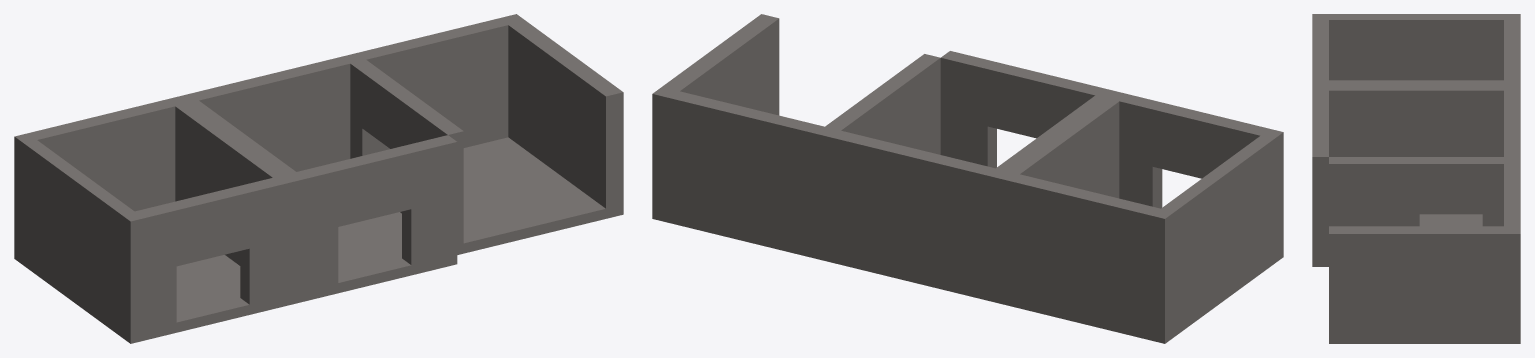
The model's file is SallesComble_SallesComble_00.fbx.
3 renders of one model, left to right at view 1: azimuth 30°, elevation 25°; view 2: azimuth 150°, elevation 25°; view 3: azimuth 270°, elevation 25°, orthographic. The views are drawn at different scales.
Parts seen in each view (by area): view 1: SallesComble_00; view 2: SallesComble_00; view 3: SallesComble_00.
Part boxes in pixels (bbox=[...]): SallesComble_00: bbox=[14, 14, 623, 343]; SallesComble_00: bbox=[652, 14, 1283, 343]; SallesComble_00: bbox=[1312, 14, 1520, 343].
Bounding box in the file's own units: 27.83 × 6.49 × 11.15.
